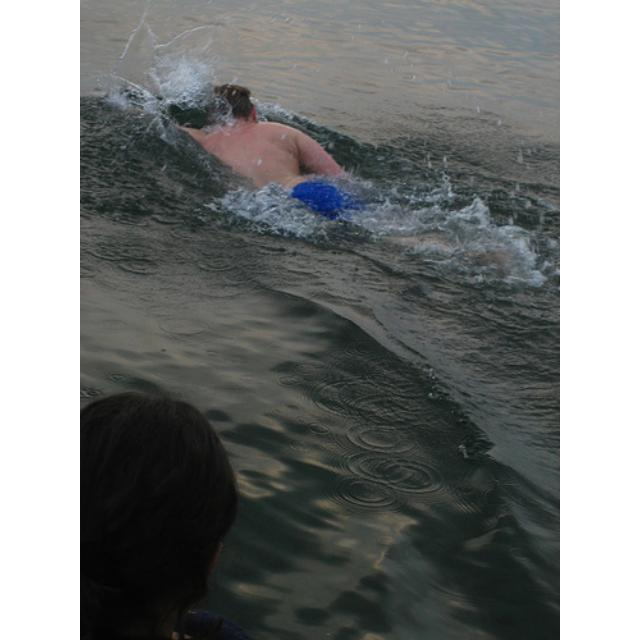human: (177, 76, 348, 215)
